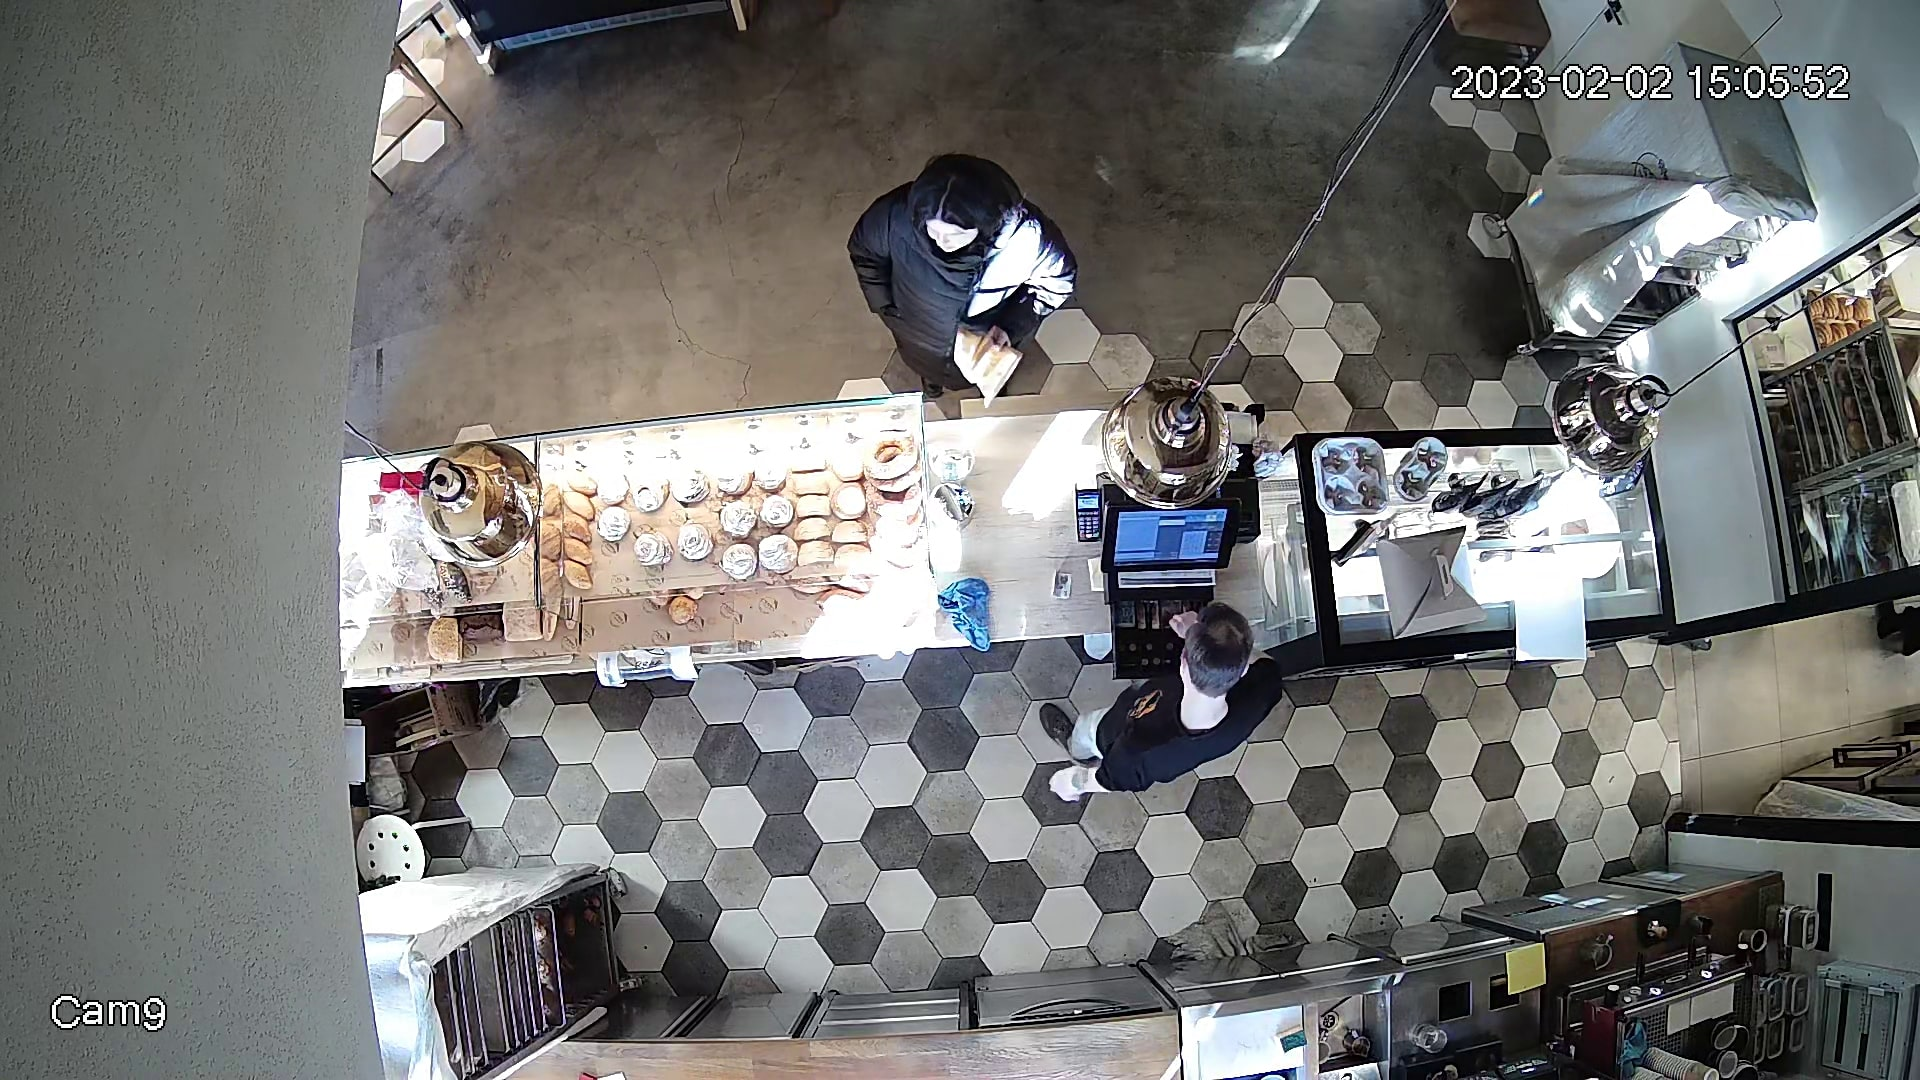barcounter: (344, 408, 1655, 688)
openedcash: (1099, 498, 1234, 680)
pack: (957, 328, 1026, 401)
person: (839, 162, 1073, 395), (1040, 634, 1284, 803)
